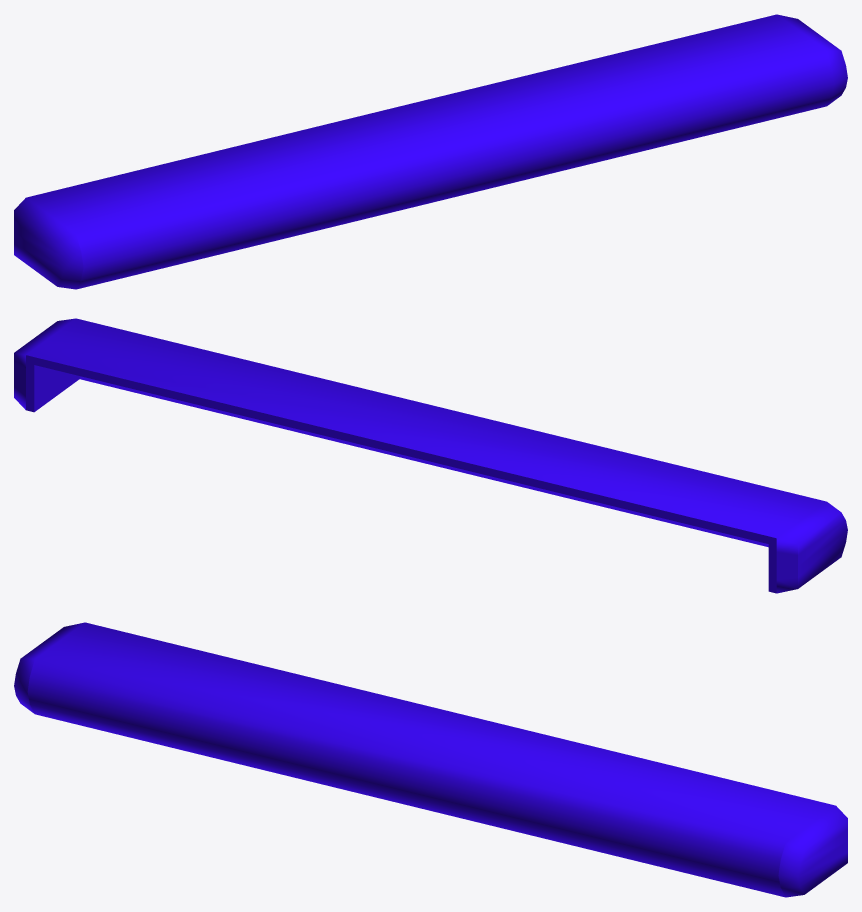
The model's file is office_pack_curtainPoleCover_1_meshCollider.fbx.
3 views of the same model, one above another, from view 1: azimuth 30°, elevation 25°; view 2: azimuth 150°, elevation 25°; view 3: azimuth 330°, elevation 25° (orthographic).
Visible parts, largest first — view 1: office_pack_curtainPoleCover_1_meshCollider; view 2: office_pack_curtainPoleCover_1_meshCollider; view 3: office_pack_curtainPoleCover_1_meshCollider.
Boxes of the visible parts, x1,y1,x2,y2 form: office_pack_curtainPoleCover_1_meshCollider: [14, 14, 847, 289]; office_pack_curtainPoleCover_1_meshCollider: [14, 318, 847, 593]; office_pack_curtainPoleCover_1_meshCollider: [14, 622, 847, 897].
Size of the model in its own units: 189 by 12.7 by 23.99.
